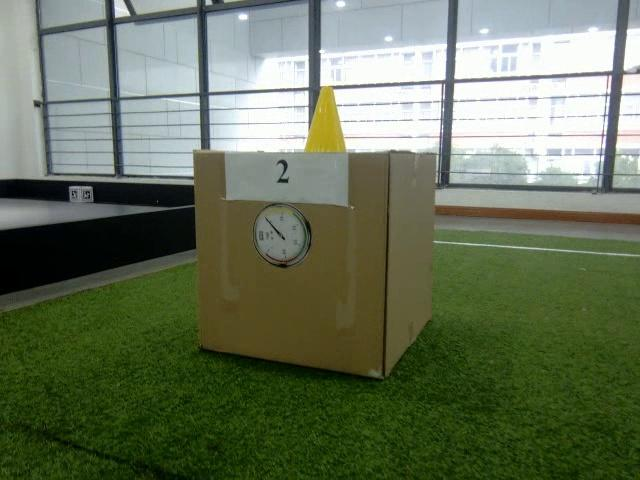2: (275, 156, 289, 185)
Dashboard: (250, 202, 313, 269)
ssi: (257, 229, 265, 242)
yellow_barrel: (300, 88, 349, 154)
